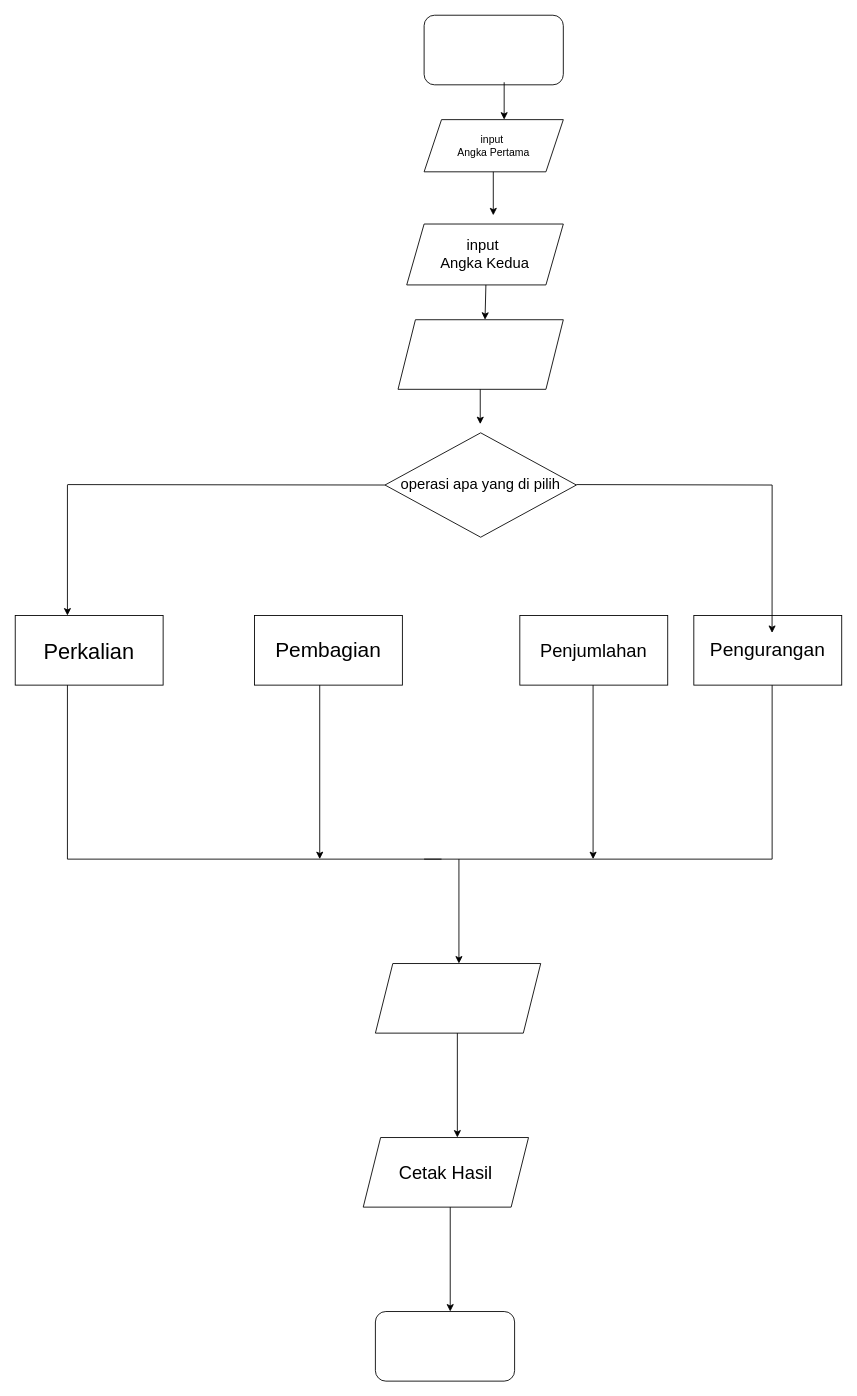
Some shapes in this 857 by 1396 pixel diagram are drawn without their labels. The centre of each missing label's shape, as x and y in pixels:
"Hasil operasi" belongs at pixel 458 998.
"Mulai" belongs at pixel 493 49.
"pilih operasi matematika (+,-,:,x)" belongs at pixel 480 354.
"Selesai" belongs at pixel 445 1346.
